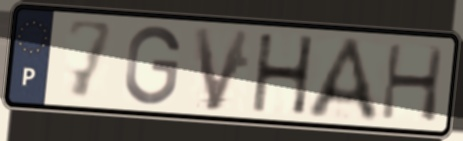7: (63, 16, 116, 104)
A: (302, 34, 384, 125)
G: (121, 23, 184, 108)
H: (378, 40, 448, 125), (249, 32, 317, 118)
V: (189, 25, 255, 115)
